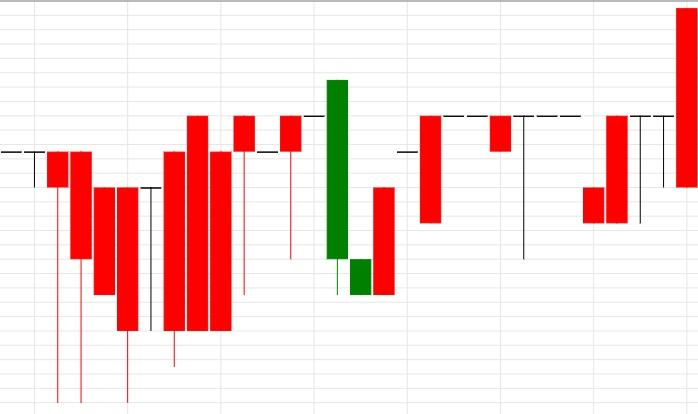bullish_engulfing_rise: (279, 79, 396, 295)
hanging_man_fall: (116, 116, 255, 401)
